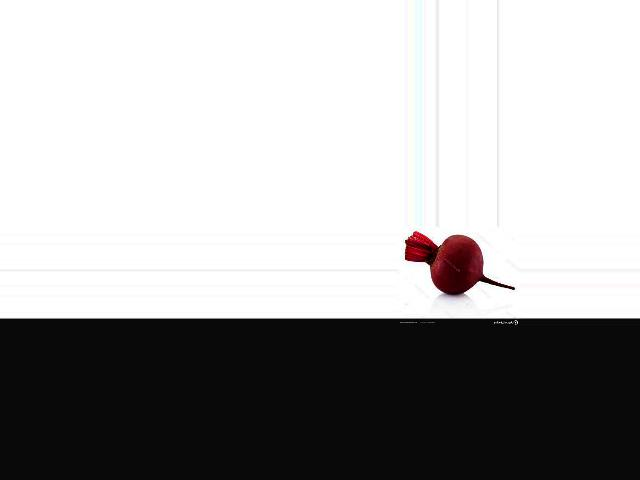beet: (404, 232, 514, 294)
